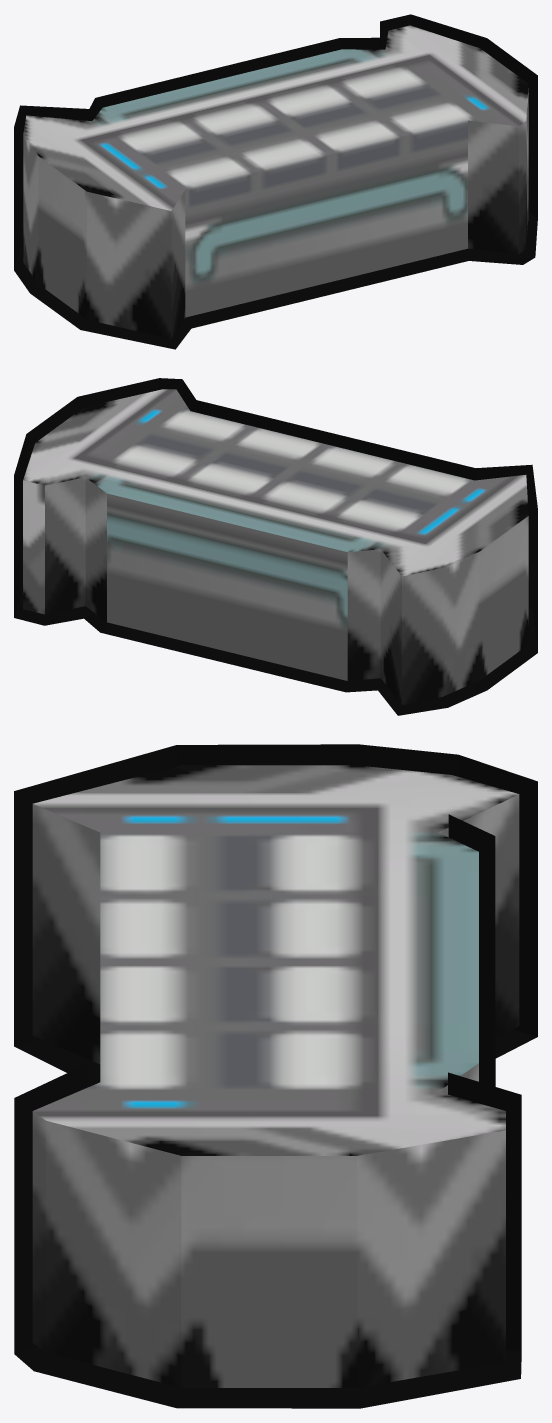
File: Building_GeneBank_Things_Building_Misc_Genebank_Genebank.glb
3 renders of one model, top to bottom at view 1: azimuth 30°, elevation 25°; view 2: azimuth 150°, elevation 25°; view 3: azimuth 270°, elevation 25°, orthographic. The views are drawn at different scales.
Parts seen in each view (by area): view 1: Body, Outline; view 2: Body, Outline; view 3: Body, Outline.
Boxes of the visible parts, x1,y1,x2,y2 form: Body: [23, 25, 528, 338]; Outline: [14, 14, 537, 349]; Body: [23, 389, 528, 705]; Outline: [14, 378, 537, 715]; Body: [32, 765, 519, 1387]; Outline: [14, 744, 537, 1408].
Bounding box in the file's own units: 0.9874 × 0.3061 × 0.5405.
2 materials, 1 textured.
